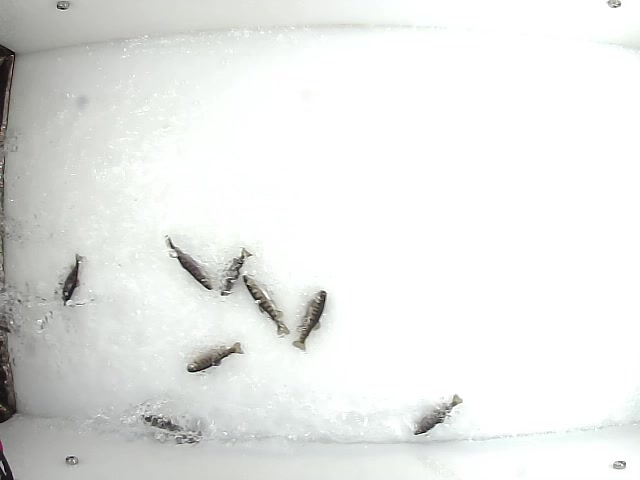fish: (163, 233, 215, 295), (242, 272, 290, 338), (291, 287, 327, 354), (412, 392, 465, 436), (185, 339, 245, 373), (216, 246, 253, 298), (140, 412, 202, 441), (57, 250, 85, 306)
